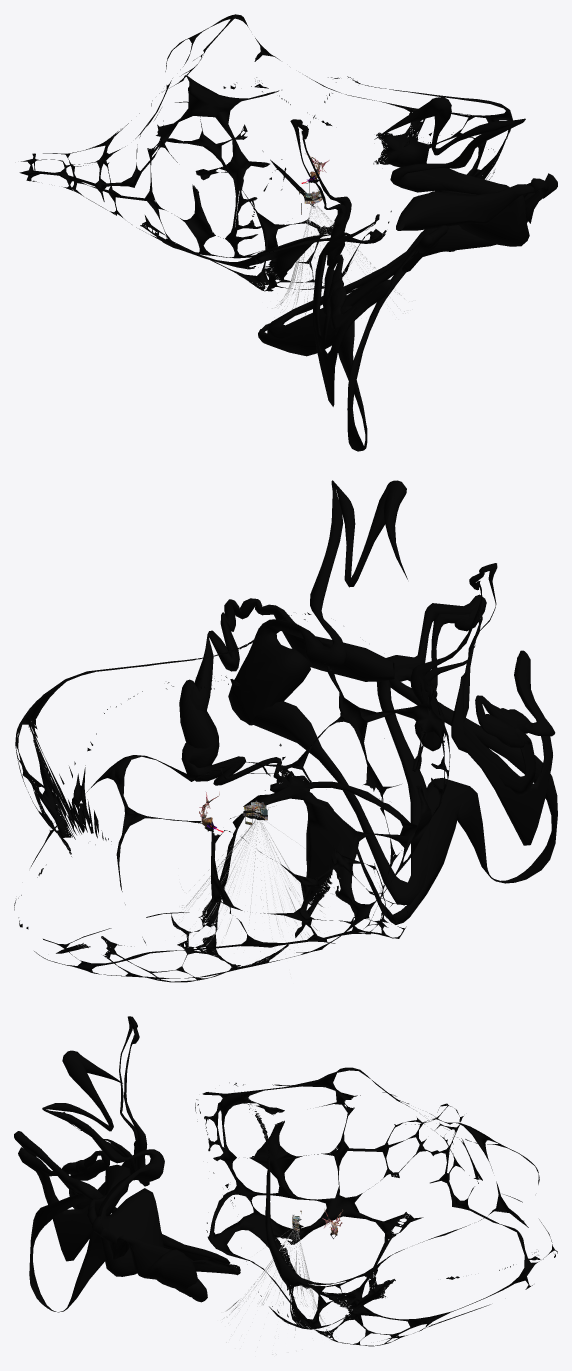
3 views of the same model, one above another, from view 1: azimuth 30°, elevation 25°; view 2: azimuth 150°, elevation 25°; view 3: azimuth 270°, elevation 25° (orthographic). The views are drawn at different scales.
Visible parts, largest first — view 1: drawsel; view 2: drawsel; view 3: drawsel.
Boxes of the visible parts, x1,y1,x2,y2 form: drawsel: [19, 14, 557, 451]; drawsel: [14, 480, 557, 982]; drawsel: [14, 1016, 557, 1356].
Bounding box in the file's own units: 621 × 471 × 767.
16 materials, 16 textured.
